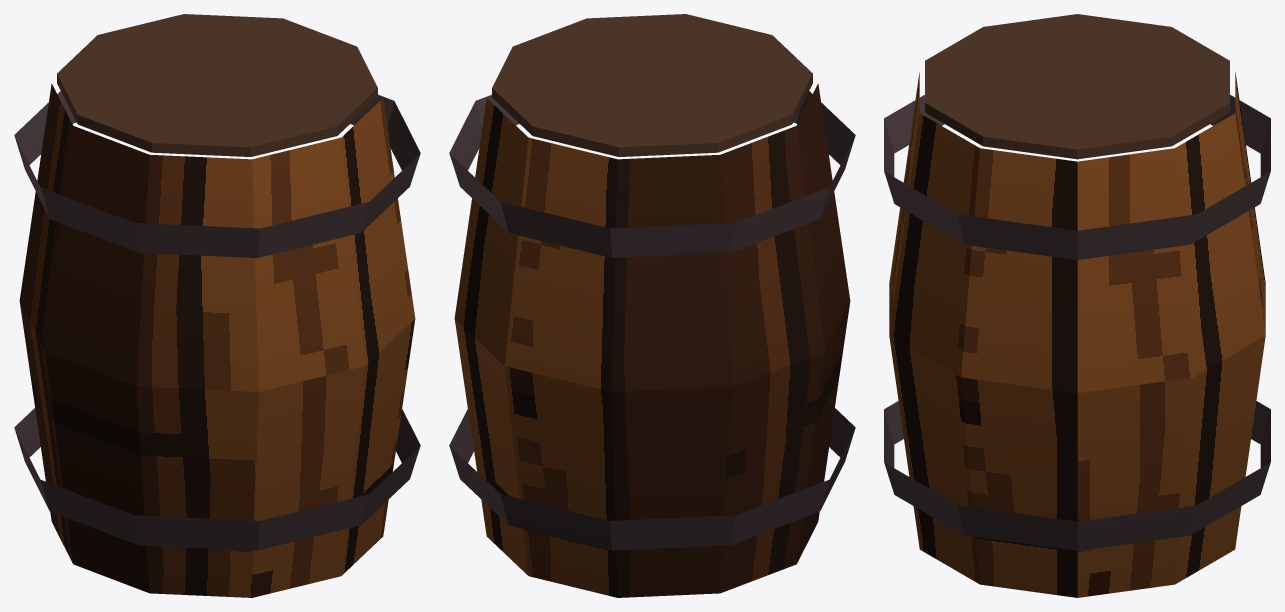
The model's file is barrel.glb.
3 views of the same model, side by side, from view 1: azimuth 30°, elevation 25°; view 2: azimuth 150°, elevation 25°; view 3: azimuth 270°, elevation 25° (orthographic).
Parts seen in each view (by area): view 1: barrel; view 2: barrel; view 3: barrel.
Boxes of the visible parts, box(x1,y1,x2,y2) form: barrel: box(14, 14, 420, 597); barrel: box(449, 14, 855, 597); barrel: box(884, 14, 1270, 597).
Size of the model in its own units: 0.76 by 0.92 by 0.7228.
Materials: 2 (1 with a texture image).
